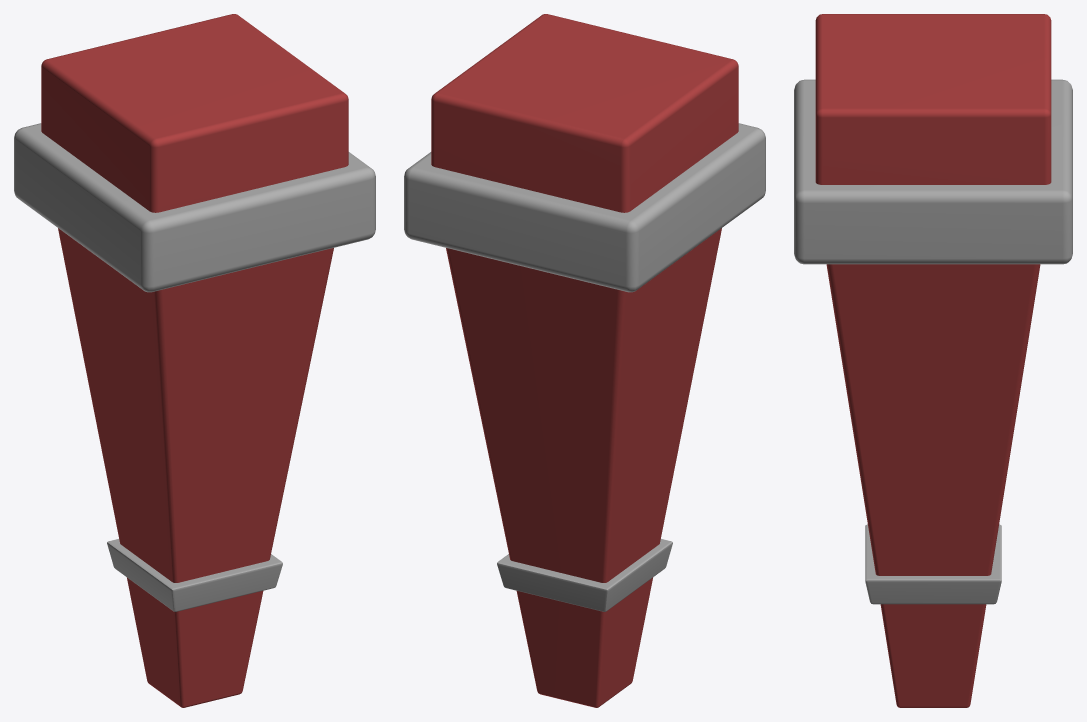
The model's file is Platform_Stylized_03.fbx.
The picture shows the model from 3 angles, left to right: view 1: azimuth 30°, elevation 25°; view 2: azimuth 150°, elevation 25°; view 3: azimuth 270°, elevation 25°; orthographic projection. The views are drawn at different scales.
Visible parts, largest first — view 1: Platform_Base, Platform_Emissive, Platform_Emissive2; view 2: Platform_Base, Platform_Emissive, Platform_Emissive2; view 3: Platform_Base, Platform_Emissive, Platform_Emissive2.
Part boxes in pixels (bbox=[...]): Platform_Base: bbox=[41, 14, 348, 707]; Platform_Emissive: bbox=[14, 123, 375, 292]; Platform_Emissive2: bbox=[107, 539, 282, 611]; Platform_Base: bbox=[431, 14, 738, 707]; Platform_Emissive: bbox=[404, 123, 765, 292]; Platform_Emissive2: bbox=[497, 539, 672, 611]; Platform_Base: bbox=[815, 14, 1051, 707]; Platform_Emissive: bbox=[794, 79, 1072, 264]; Platform_Emissive2: bbox=[865, 524, 1001, 604].
Size of the model in its own units: 137 by 343 by 137.
